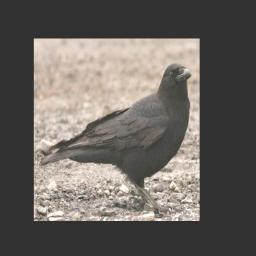Crow: (38, 61, 191, 214)
